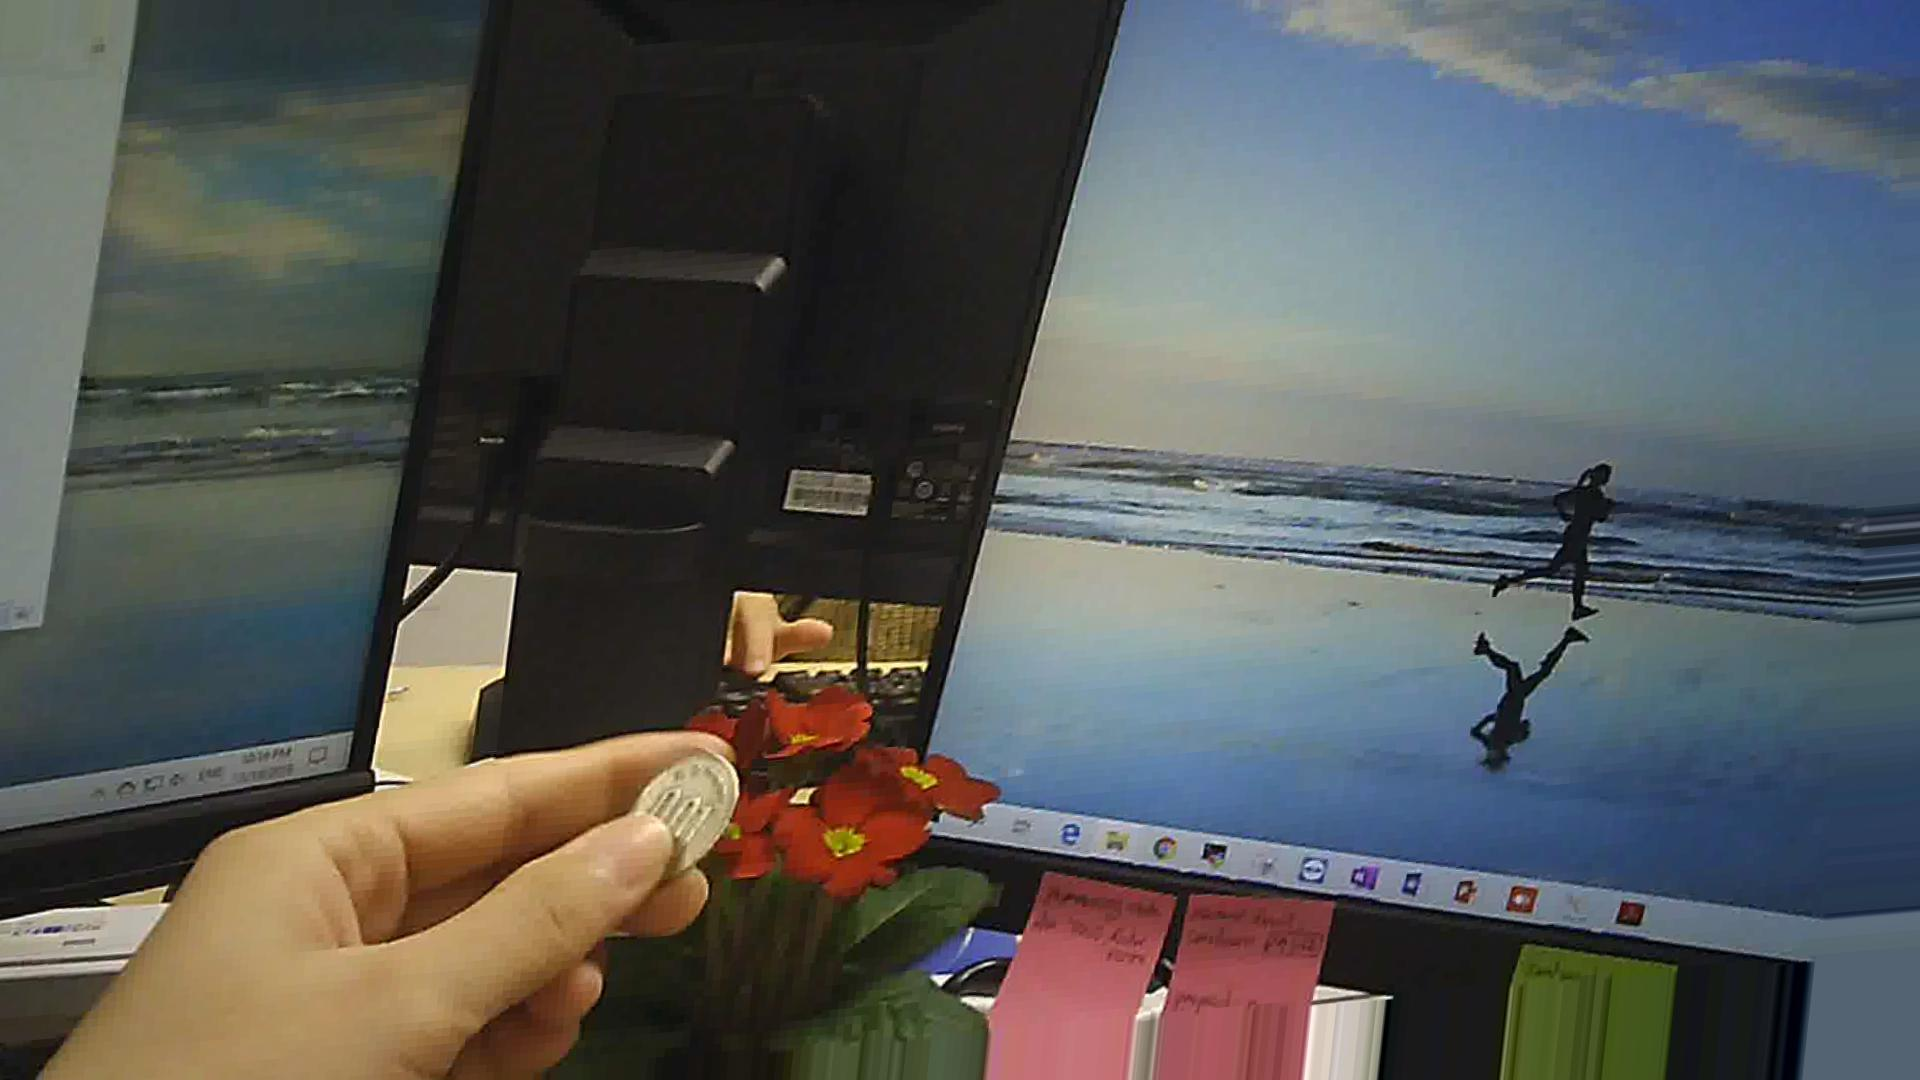100 Yen: (600, 748, 738, 894)
